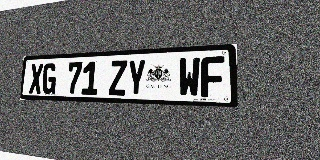1: (81, 61, 98, 95)
7: (66, 62, 83, 95)
F: (201, 56, 225, 98)
G: (42, 63, 57, 94)
W: (178, 57, 200, 97)
X: (29, 63, 43, 94)
Y: (127, 59, 146, 96)
Z: (109, 60, 127, 96)
